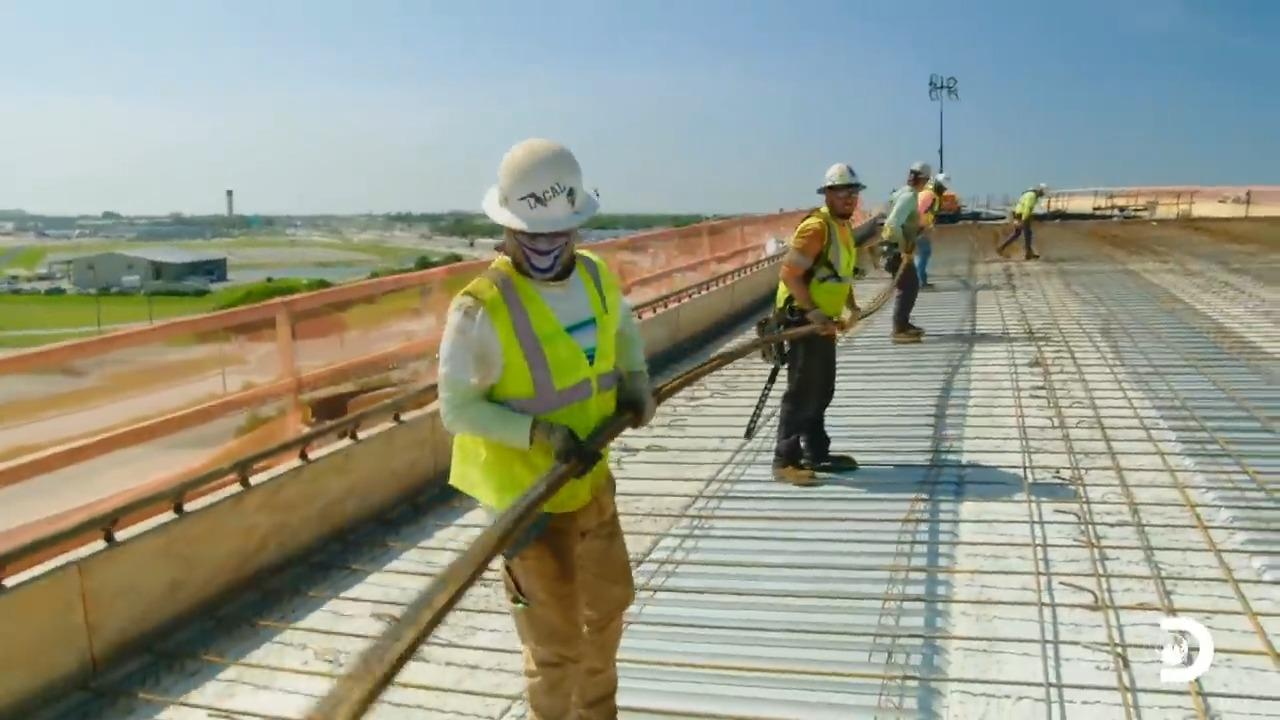Gloves: (531, 410, 592, 467), (622, 378, 665, 427), (814, 449, 859, 473), (811, 321, 836, 335)
Helmet: (481, 137, 599, 233), (816, 162, 867, 193), (908, 161, 931, 180), (1042, 182, 1050, 195)
Person: (436, 137, 656, 719), (769, 162, 867, 485), (879, 161, 932, 343), (995, 182, 1048, 260)
Safety Boot: (769, 465, 814, 486), (889, 326, 919, 340)
Safety Vest: (474, 281, 608, 483), (793, 221, 856, 309), (886, 194, 920, 249), (1020, 193, 1030, 215)
